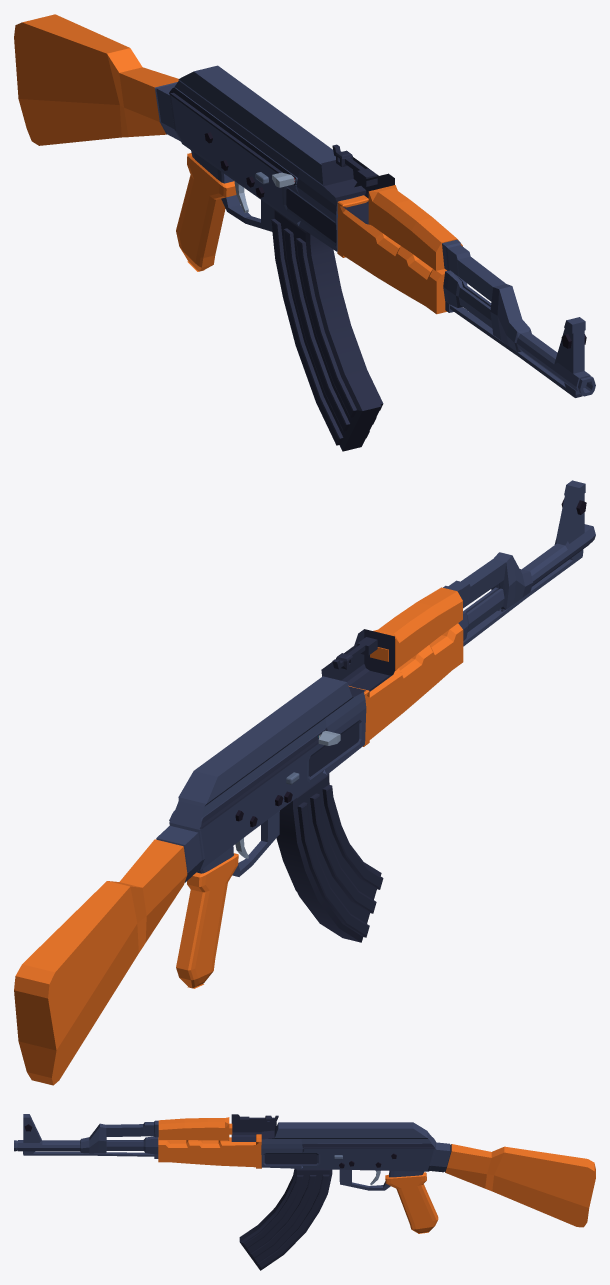
3 renders of one model, top to bottom at view 1: azimuth 30°, elevation 25°; view 2: azimuth 150°, elevation 25°; view 3: azimuth 270°, elevation 25°, orthographic. The views are drawn at different scales.
Visible parts, largest first — view 1: Body, Magazine; view 2: Body, Magazine; view 3: Body, Magazine.
Boxes of the visible parts, x1=… form: Body: x1=14, y1=14, x2=595, y2=397; Magazine: x1=271, y1=209, x2=383, y2=451; Body: x1=14, y1=480, x2=595, y2=1085; Magazine: x1=276, y1=773, x2=383, y2=942; Body: x1=14, y1=1114, x2=595, y2=1233; Magazine: x1=239, y1=1168, x2=332, y2=1270.
Bounding box in the file's own units: 23.38 × 132 × 455.
